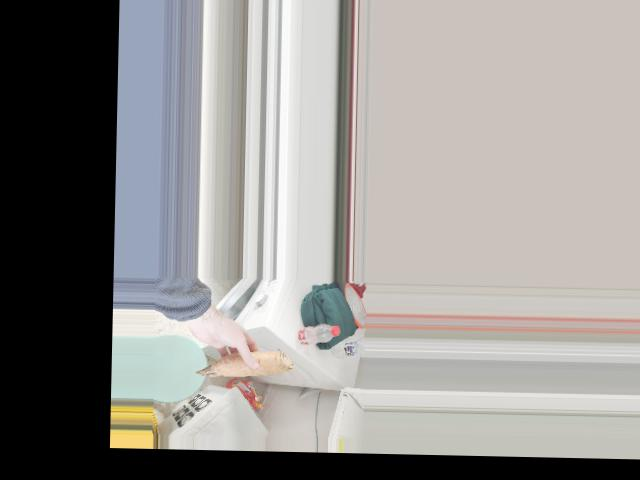sweet_potato: (201, 346, 297, 374)
